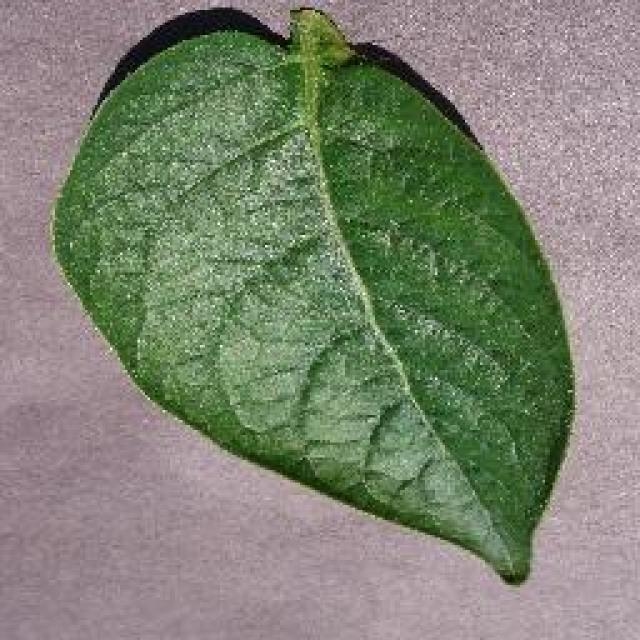Potato___healthy: (52, 9, 576, 590)
